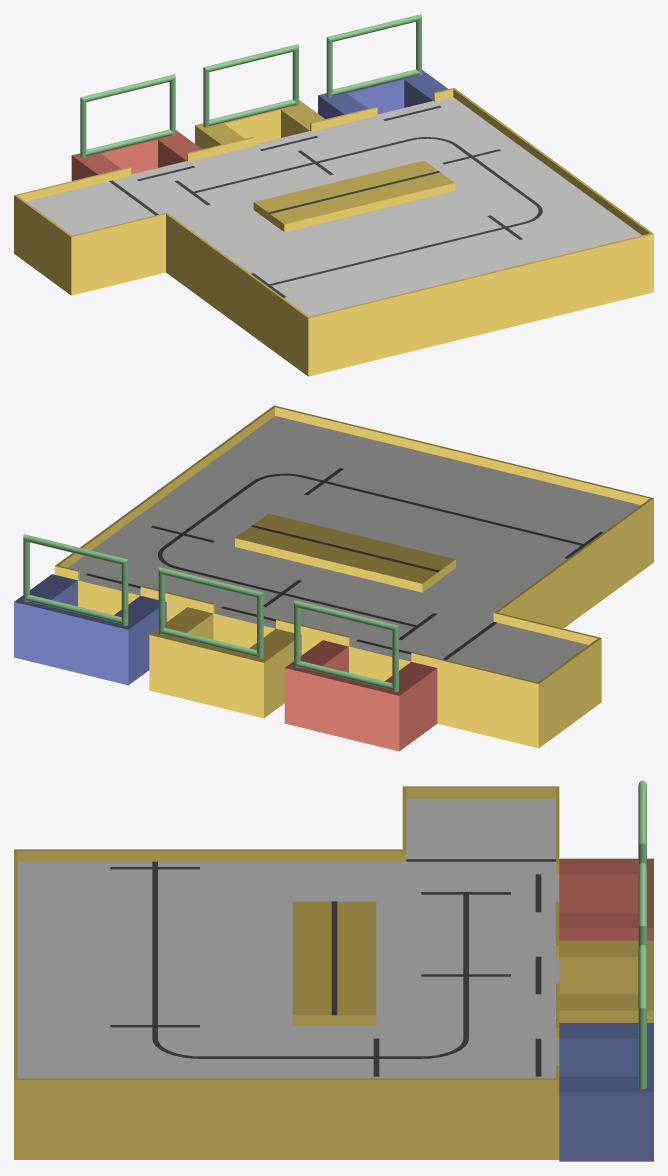
Rendered from irc_table.glb.
3 renders of one model, top to bottom at view 1: azimuth 30°, elevation 25°; view 2: azimuth 150°, elevation 25°; view 3: azimuth 270°, elevation 25°, orthographic. The views are drawn at different scales.
Parts seen in each view (by area): view 1: Body1.001, Body2.001, Body16, Body14, Body15, Body19, Body2, Body1, Body3, Body3.001, Body4; view 2: Body1.001, Body2.001, Body16, Body15, Body14, Body19, Body2, Body3, Body1, Body4, Body3.001, Body26; view 3: Body1.001, Body2.001, Body14, Body15, Body16, Body19, Body3, Body26, Body1, Body2.
Part boxes in pixels (x1,y1,x2,y2): Body1.001: [26, 97, 641, 316]; Body2.001: [14, 88, 653, 376]; Body16: [71, 130, 201, 180]; Body14: [318, 70, 448, 118]; Body15: [195, 100, 324, 149]; Body19: [175, 137, 542, 297]; Body2: [203, 44, 298, 127]; Body1: [80, 74, 175, 157]; Body3: [326, 14, 421, 97]; Body3.001: [187, 137, 254, 161]; Body4: [310, 107, 377, 131]; Body1.001: [68, 416, 640, 682]; Body2.001: [54, 405, 653, 748]; Body16: [284, 640, 437, 751]; Body15: [149, 607, 301, 718]; Body14: [14, 574, 166, 685]; Body19: [151, 468, 603, 640]; Body2: [158, 567, 263, 658]; Body3: [23, 534, 128, 625]; Body1: [294, 600, 398, 691]; Body4: [140, 586, 214, 621]; Body3.001: [276, 619, 350, 654]; Body26: [251, 525, 439, 572]; Body1.001: [17, 798, 559, 1078]; Body2.001: [14, 786, 559, 1159]; Body14: [559, 1023, 653, 1161]; Body15: [559, 940, 653, 1022]; Body16: [559, 858, 653, 940]; Body19: [110, 861, 510, 1076]; Body3: [638, 944, 646, 1089]; Body26: [331, 901, 337, 1015]; Body1: [638, 780, 646, 867]; Body2: [638, 862, 646, 949].
Size of the model in its own units: 2.34 by 0.5551 by 2.14.
